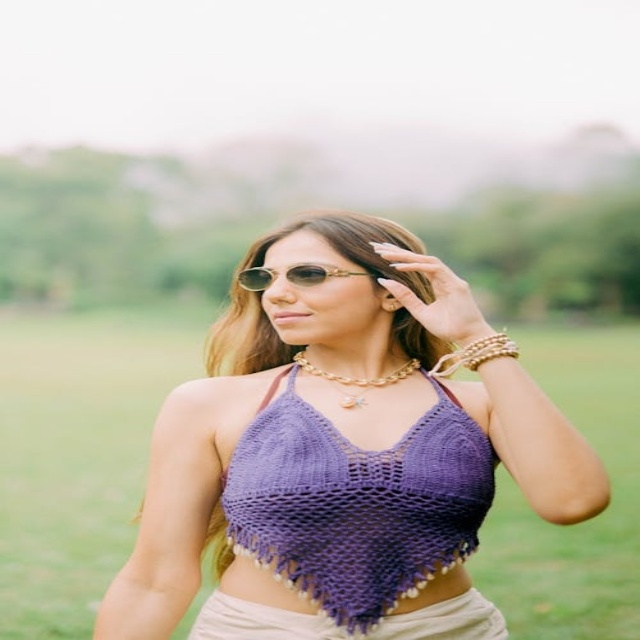Gafas: (233, 257, 371, 294)
Sin_guantes: (367, 235, 484, 340)
Sin_mascara: (268, 306, 339, 339)
